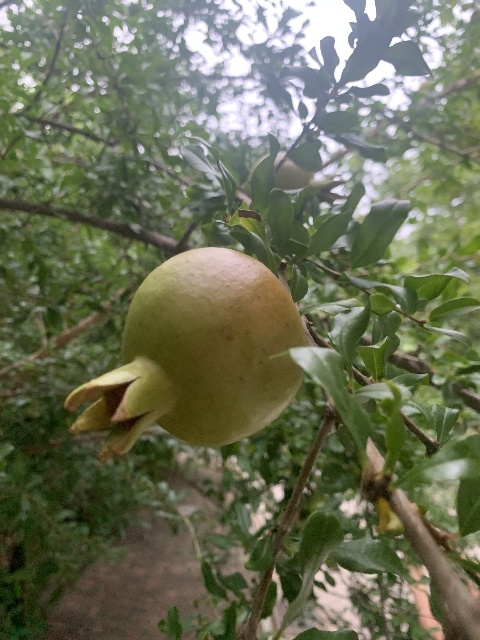mid-growth: (63, 247, 313, 463)
